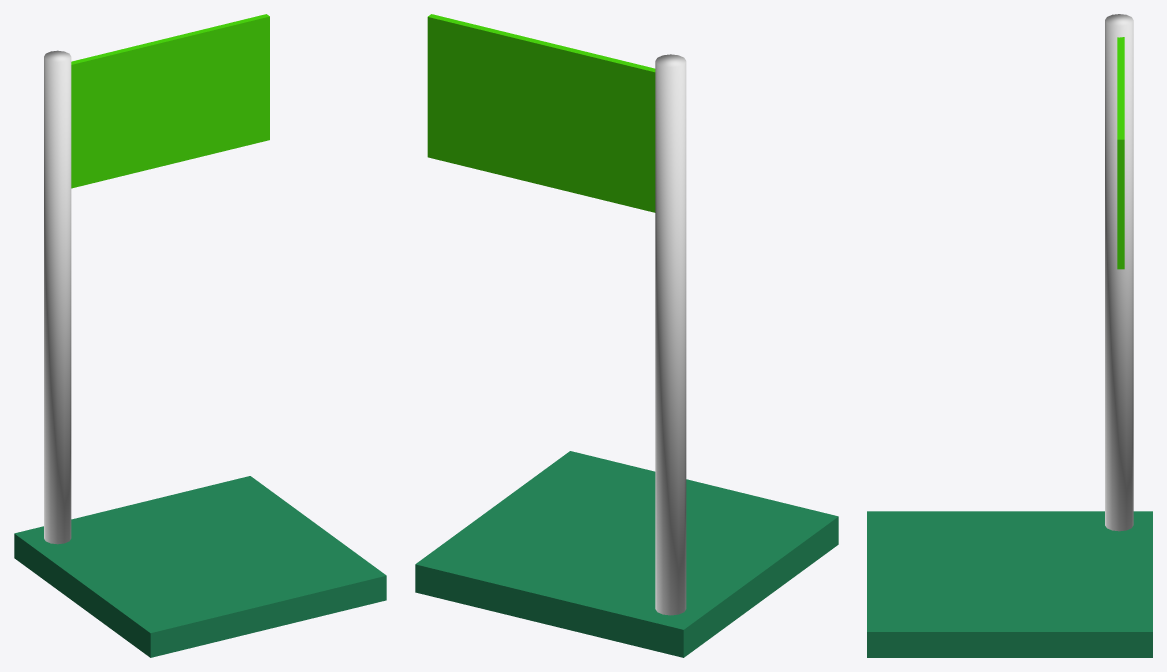
Rendered from 复活点.fbx.
3 views of the same model, side by side, from view 1: azimuth 30°, elevation 25°; view 2: azimuth 150°, elevation 25°; view 3: azimuth 270°, elevation 25° (orthographic). The views are drawn at different scales.
Parts seen in each view (by area): view 1: 立方体, 立方体.002, 柱体; view 2: 立方体, 立方体.002, 柱体; view 3: 立方体, 柱体, 立方体.002.
Boxes of the visible parts, box(x1,y1,x2,y2) form: 立方体: box(14, 476, 386, 657); 立方体.002: box(71, 14, 269, 188); 柱体: box(44, 50, 71, 544); 立方体: box(415, 451, 838, 657); 立方体.002: box(427, 14, 655, 212); 柱体: box(655, 54, 686, 615); 立方体: box(867, 511, 1152, 657); 柱体: box(1105, 14, 1133, 531); 立方体.002: box(1117, 37, 1124, 269).
Bounding box in the file's own units: 101 × 205 × 100.
